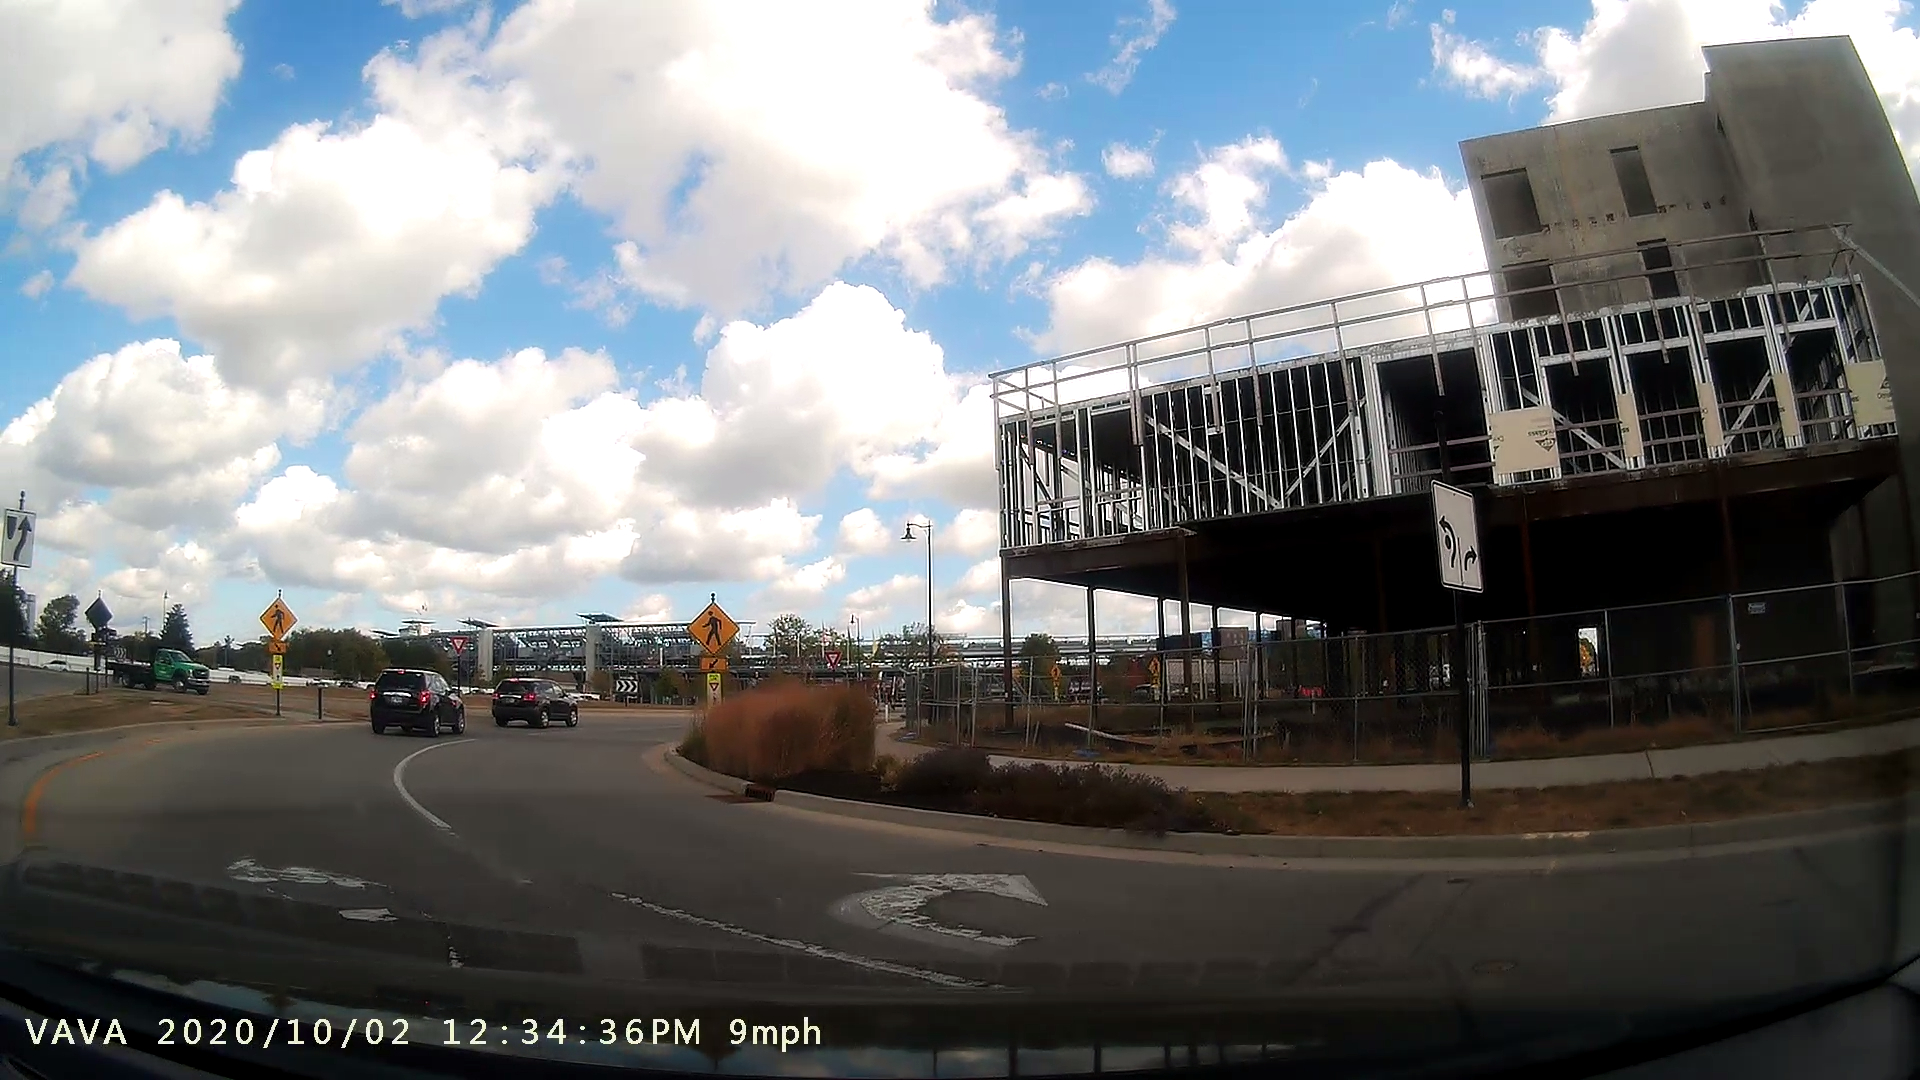right_turn: (818, 852, 1062, 959)
